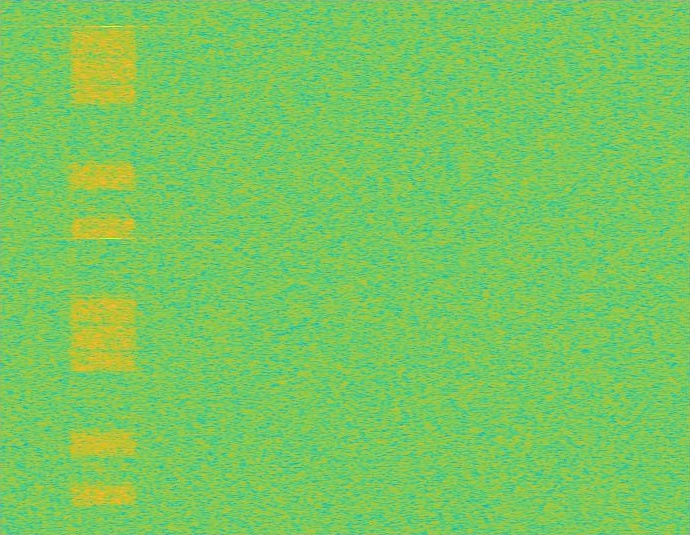LTE: (69, 0, 138, 534)
Radar: (104, 0, 118, 534)
